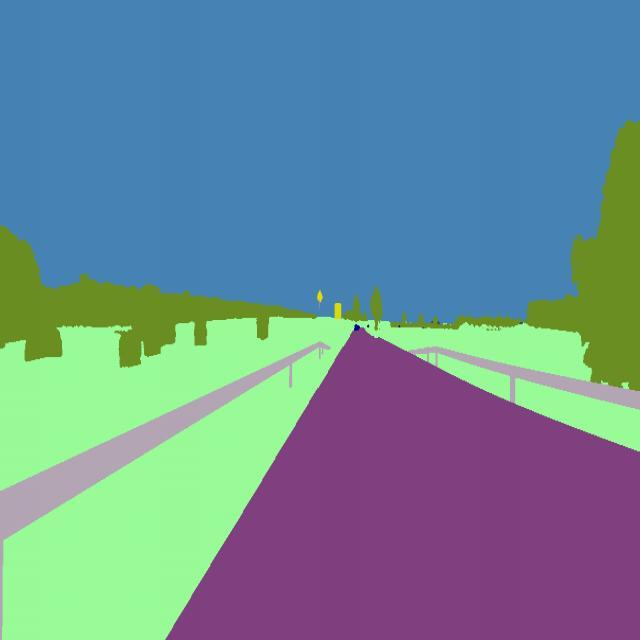safe: (352, 320, 362, 333)
